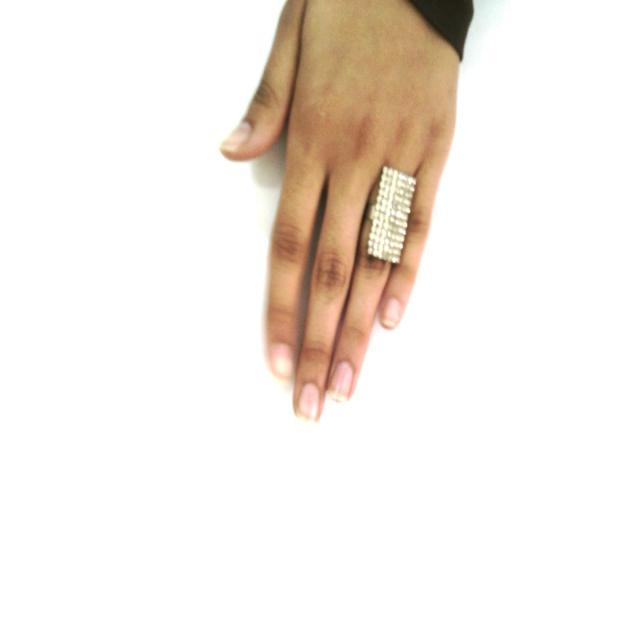Fingernail: (330, 361, 353, 402), (222, 121, 252, 149), (298, 383, 319, 422), (272, 344, 293, 379), (382, 298, 401, 328)
